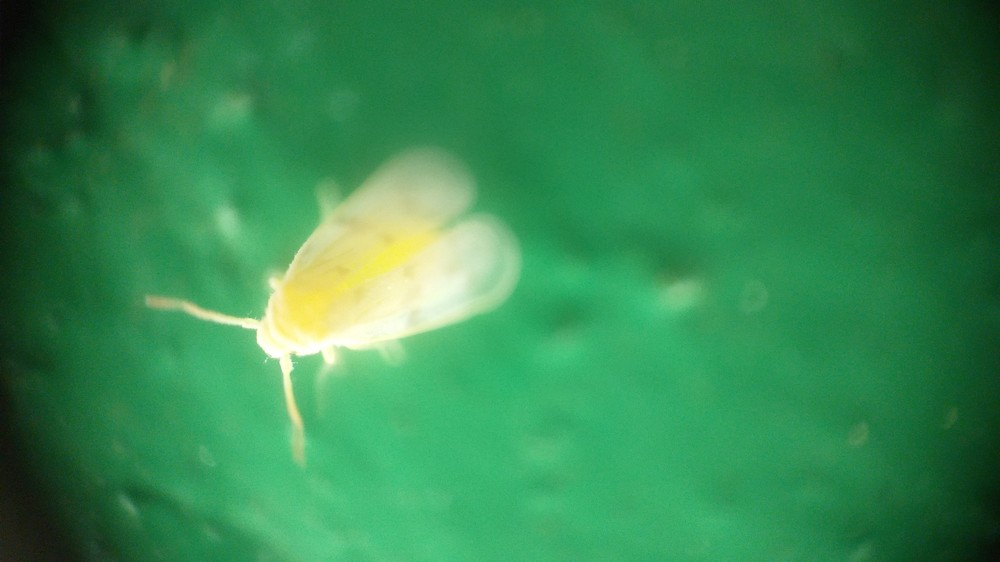Mosca Blanca: (132, 139, 563, 471)
